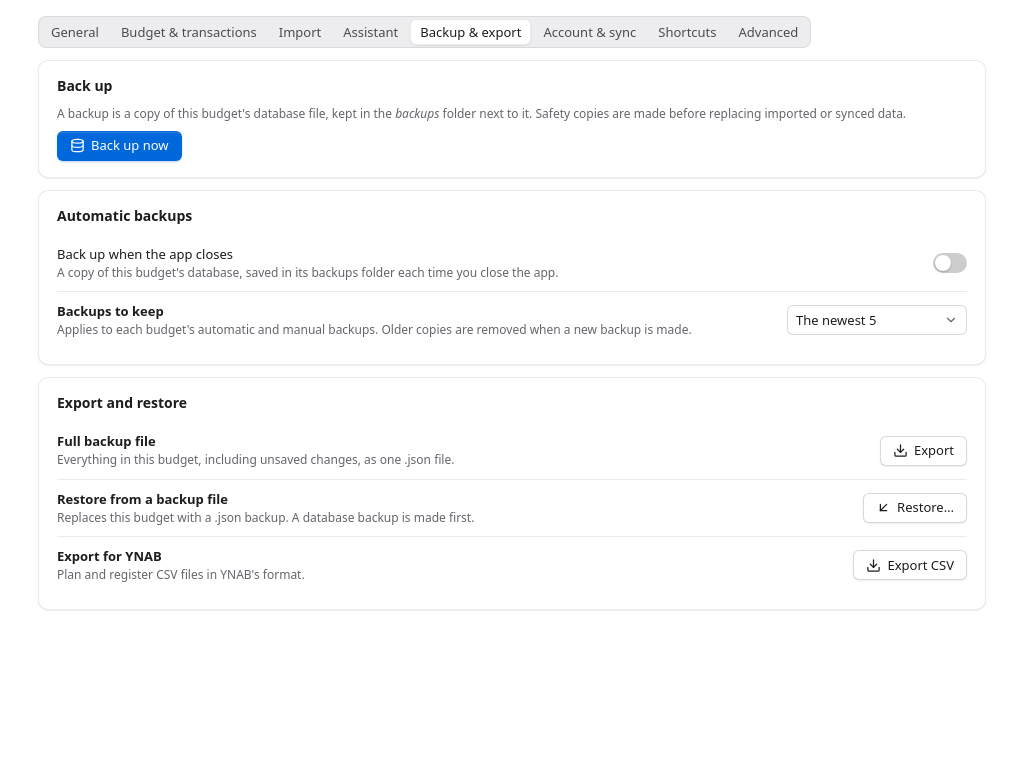
Test: keeps the old retention choice and reports a failed native save
The width and height of the screenshot is (1024, 768).
Select "The newest 30" in the dropdown named "Backups to keep" at (877, 320), box [787,305,967,335]
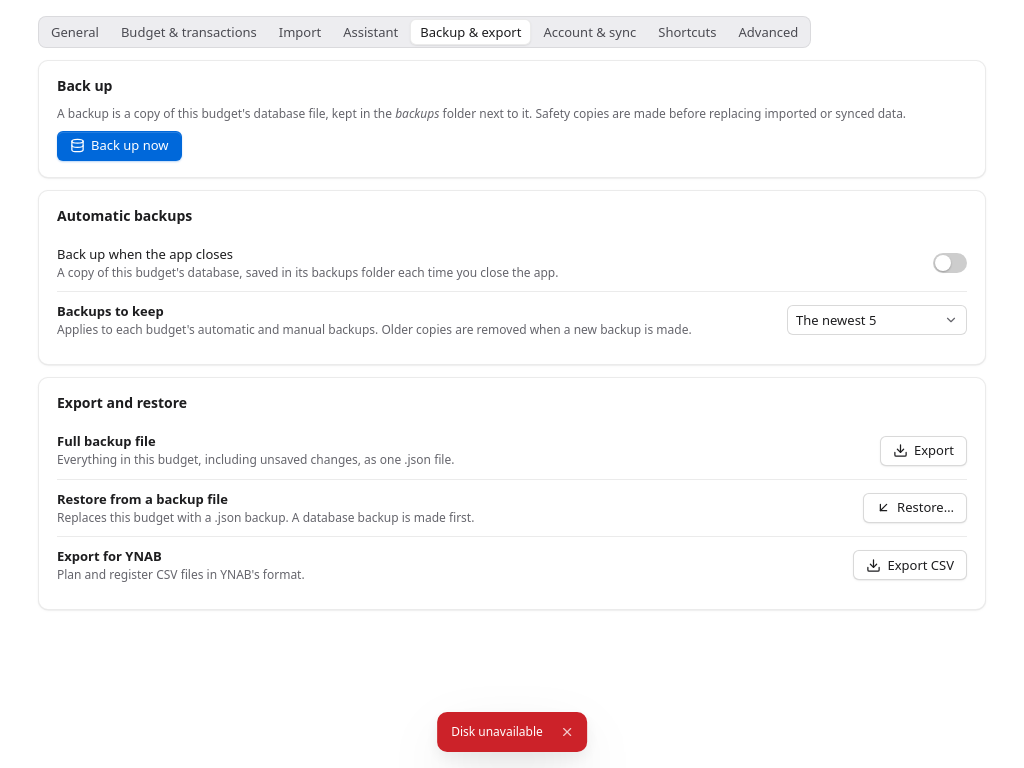
Now the message reads "Disk unavailable", box [451,723,543,740]
